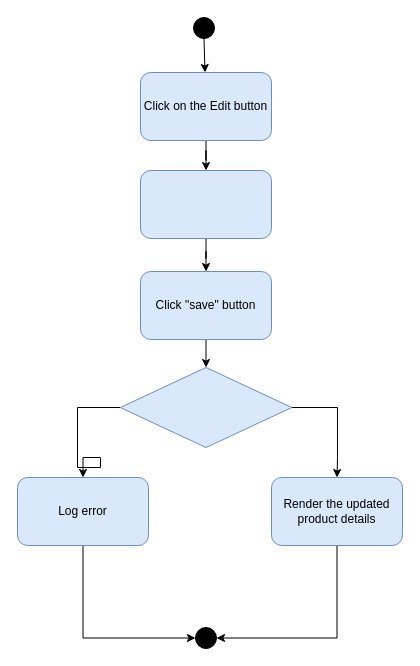
This 420x666 diagram has some shape labels left out. The shapes that lost their labels are listed below. From the top down, each one's centre as x and y in pixels, then its label:
At point (206, 204): "Enter the sals percentage with the corresponding field".
At point (205, 407): "Is update data valid ?".
